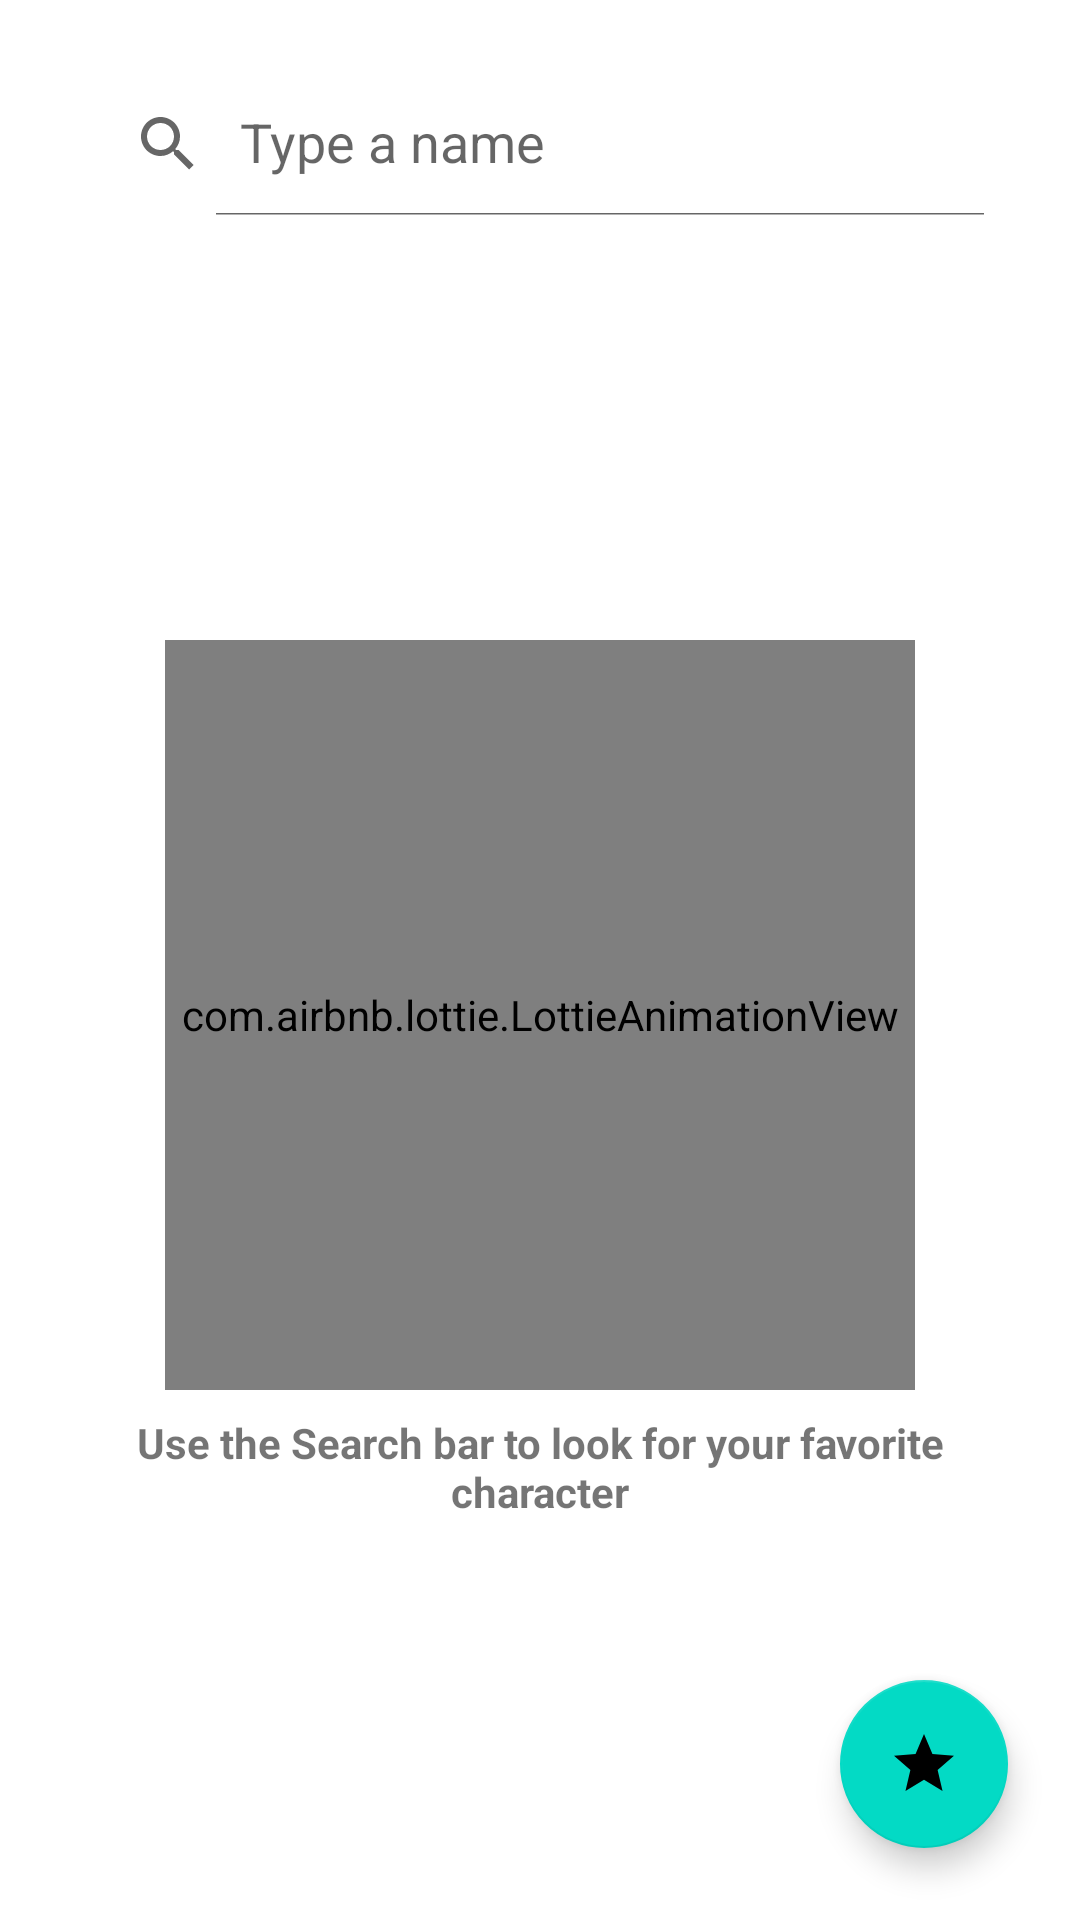

Icons on this 1080 × 1920 Android screen, each with the point to tap as [x,y]:
Your Favorites: [924,1764]
